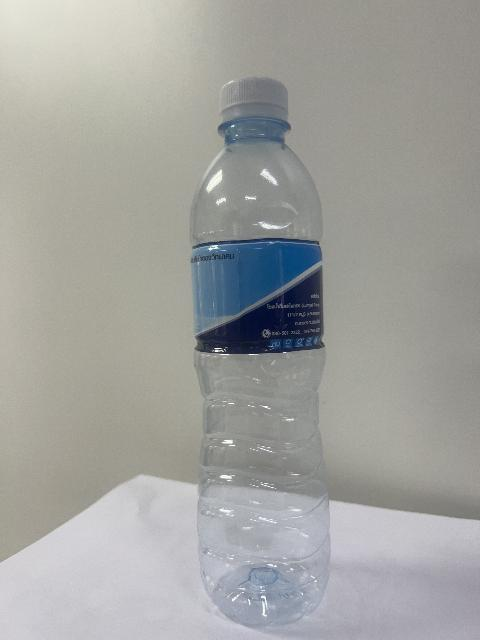bottle: (191, 78, 329, 625)
